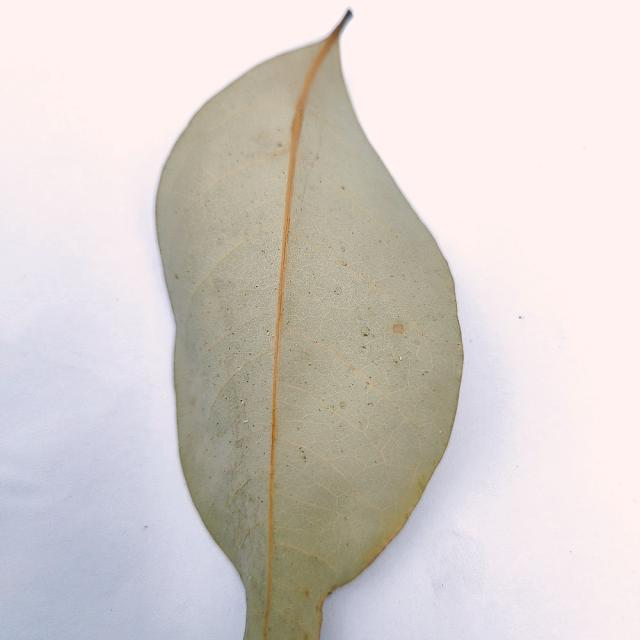Dry_Leaf-Lychee: (153, 13, 466, 639)
